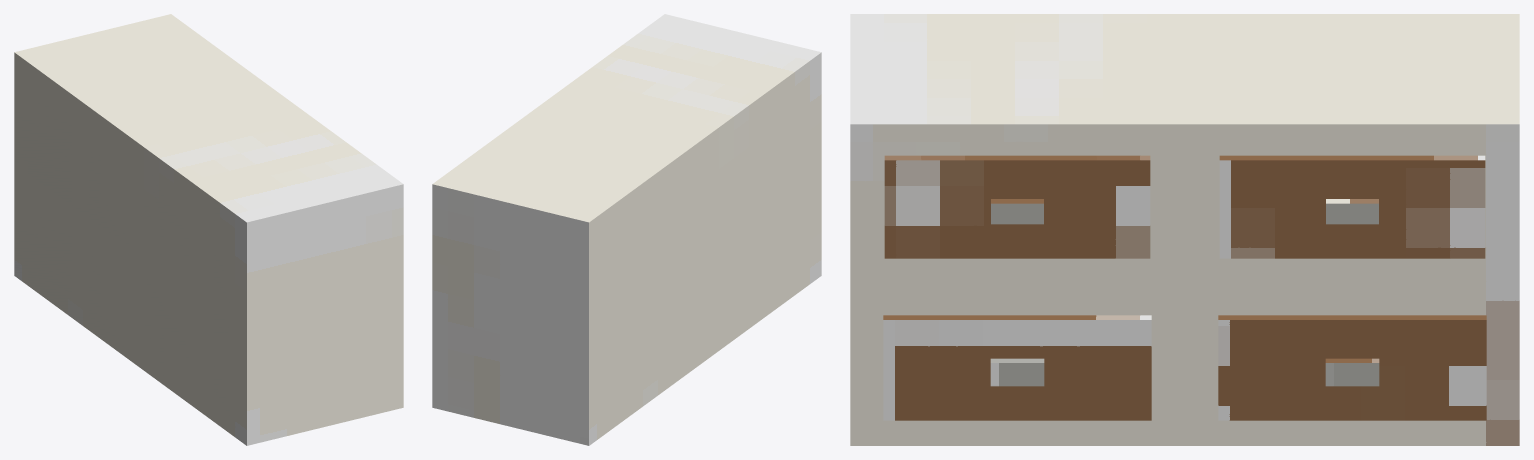
The model's file is drawer.glb.
3 views of the same model, side by side, from view 1: azimuth 30°, elevation 25°; view 2: azimuth 150°, elevation 25°; view 3: azimuth 270°, elevation 25° (orthographic). The views are drawn at different scales.
Visible parts, largest first — view 1: drawer; view 2: drawer; view 3: drawer.
Part boxes in pixels (x1=…): drawer: x1=14, y1=14, x2=403, y2=445; drawer: x1=432, y1=14, x2=821, y2=445; drawer: x1=850, y1=14, x2=1519, y2=445.
Size of the model in its own units: 2.17 by 2.72 by 5.14.
Materials: 1 (1 with a texture image).
